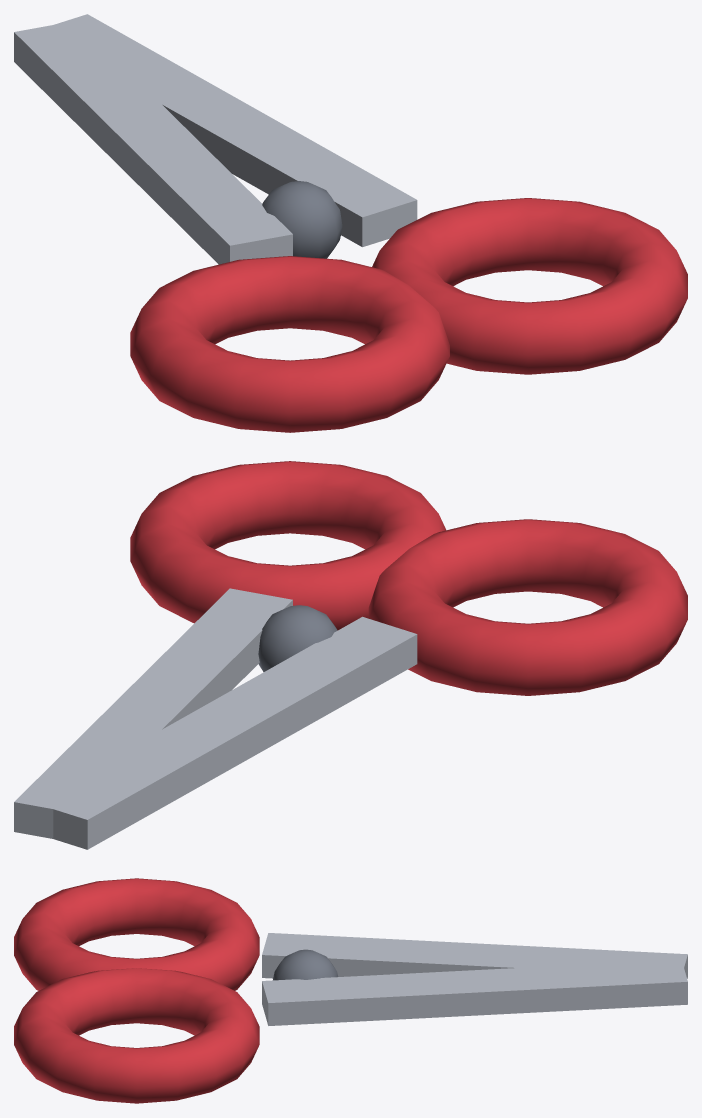
File: scissors.glb
3 views of the same model, one above another, from view 1: azimuth 30°, elevation 25°; view 2: azimuth 150°, elevation 25°; view 3: azimuth 270°, elevation 25° (orthographic). The views are drawn at different scales.
Visible parts, largest first — view 1: root; view 2: root; view 3: root.
Part boxes in pixels (x1,y1,x2,y2): root: (14, 14, 687, 432); root: (14, 461, 687, 849); root: (14, 878, 687, 1103).
Bounding box in the file's own units: 0.218 × 0.034 × 0.3189.
